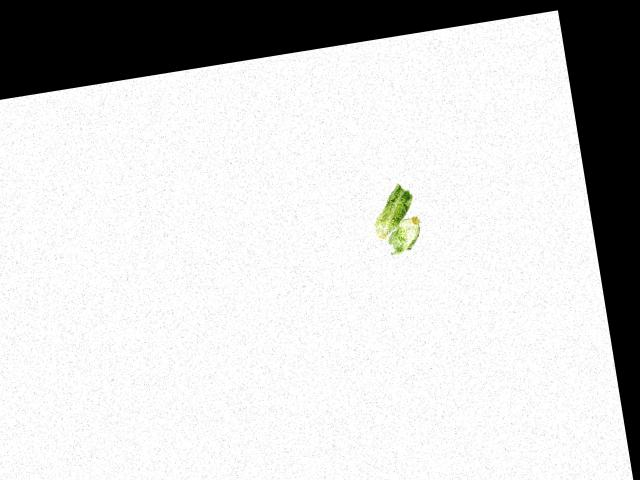lettuce: (367, 182, 433, 259)
